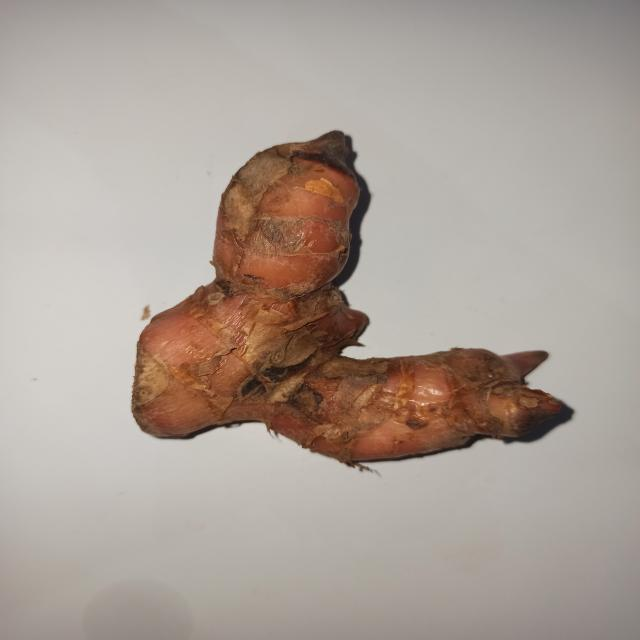ginger: (126, 134, 571, 479)
